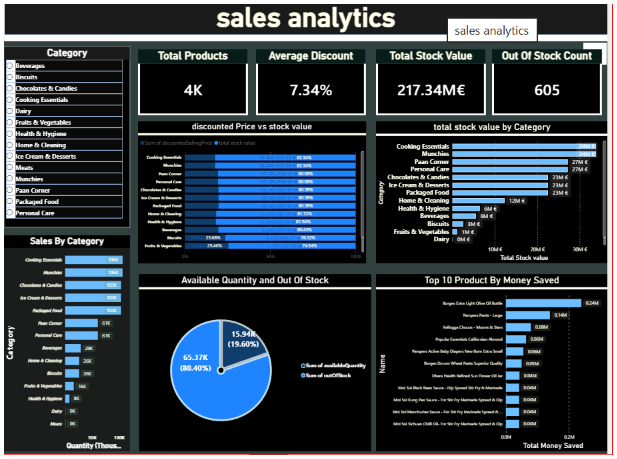

What the dashboard file says about the page in this screenshot:
{"tool":"powerbi","page":{"name":"Page ١","canvas":[1600,1200],"ordinal":0},"visuals":[{"type":"shape","title":"sales analytics dashboard","box":[0,0,1601.2,106],"z":0},{"type":"shape","box":[355.2,127.2,291.6,175],"z":2},{"type":"shape","box":[668.1,127.2,283.7,175],"z":3},{"type":"shape","box":[986.2,127.2,283.7,175],"z":4},{"type":"shape","box":[1293.7,127.2,283.7,175],"z":5},{"type":"shape","box":[986.2,328.7,615,270.4],"z":7},{"type":"listSlicer","fields":{"Values":["cleaned_ecomerce_data.Category"]},"box":[0,119.3,334,479.8],"z":11},{"type":"cardVisual","title":"Total Products","fields":{"Data":["cleaned_ecomerce_data.total products"]},"box":[355.2,127.2,291.6,175],"z":12},{"type":"cardVisual","title":"Average Discount","fields":{"Data":["cleaned_ecomerce_data.Aavrage discount display"]},"box":[668.1,127.2,291.6,175],"z":13},{"type":"cardVisual","title":"Total Stock Value","fields":{"Data":["cleaned_ecomerce_data.total stock value"]},"box":[986.2,127.2,291.6,175],"z":14},{"type":"cardVisual","title":"Out Of Stock Count","fields":{"Data":["cleaned_ecomerce_data.out of stock count"]},"box":[1293.7,127.2,291.6,175],"z":15},{"type":"clusteredBarChart","title":"Sales By Category","fields":{"Category":["cleaned_ecomerce_data.Category"],"Y":["Sum(cleaned_ecomerce_data.quantity)"]},"box":[0,620.3,334,572.6],"z":16},{"type":"hundredPercentStackedBarChart","title":" discounted Price vs stock value ","fields":{"Category":["cleaned_ecomerce_data.Category"],"Y":["Sum(cleaned_ecomerce_data.discountedSellingPrice)","cleaned_ecomerce_data.total stock value"]},"box":[355.2,318.1,604.4,376.4],"z":18},{"type":"clusteredBarChart","fields":{"Category":["cleaned_ecomerce_data.Category"],"Y":["cleaned_ecomerce_data.total stock value"]},"box":[986.2,318.1,615,376],"z":20},{"type":"pieChart","title":" Available Quantity and Out Of Stock","fields":{"Y":["Sum(cleaned_ecomerce_data.availableQuantity)","Sum(cleaned_ecomerce_data.outOfStock)"]},"box":[358,723.7,615,469.2],"z":21},{"type":"clusteredBarChart","title":"Top 10 Product By Money Saved","fields":{"Category":["cleaned_ecomerce_data.name"],"Y":["Sum(cleaned_ecomerce_data.money_saved)"]},"box":[986,724,614,469],"z":22}]}

Visuals, with their boxes in screenshot pixels (x1, y1, x2, y2), scaled from the page's 1600x1200 canvas onto the 617x459 screenshot:
"sales analytics dashboard" shape: [x1=0, y1=0, x2=616, y2=41]
shape: [x1=137, y1=49, x2=249, y2=116]
shape: [x1=258, y1=49, x2=367, y2=116]
shape: [x1=380, y1=49, x2=490, y2=116]
shape: [x1=499, y1=49, x2=608, y2=116]
shape: [x1=380, y1=126, x2=616, y2=229]
listSlicer - cleaned_ecomerce_data.Category: [x1=0, y1=46, x2=129, y2=229]
"Total Products" cardVisual: [x1=137, y1=49, x2=249, y2=116]
"Average Discount" cardVisual: [x1=258, y1=49, x2=370, y2=116]
"Total Stock Value" cardVisual: [x1=380, y1=49, x2=493, y2=116]
"Out Of Stock Count" cardVisual: [x1=499, y1=49, x2=611, y2=116]
"Sales By Category" clusteredBarChart: [x1=0, y1=237, x2=129, y2=456]
" discounted Price vs stock value " hundredPercentStackedBarChart: [x1=137, y1=122, x2=370, y2=266]
clusteredBarChart - cleaned_ecomerce_data.Category x cleaned_ecomerce_data.total stock value: [x1=380, y1=122, x2=616, y2=265]
" Available Quantity and Out Of Stock" pieChart: [x1=138, y1=277, x2=375, y2=456]
"Top 10 Product By Money Saved" clusteredBarChart: [x1=380, y1=277, x2=616, y2=456]
